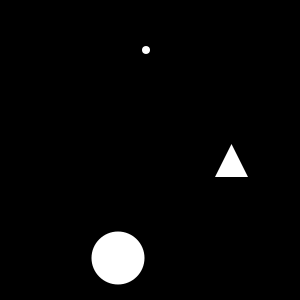rectangle: (92, 231, 144, 284), (142, 46, 150, 54)
triangle: (215, 144, 248, 177)
